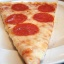pepperoni: (8, 21, 39, 37), (5, 13, 29, 25), (35, 4, 56, 15), (31, 13, 54, 23), (11, 2, 31, 12)
pizza: (1, 1, 58, 64)
